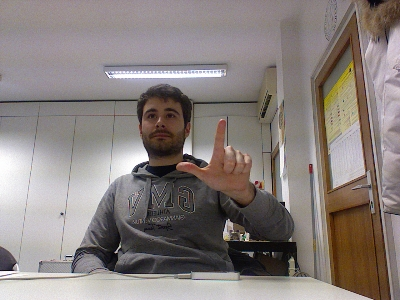枪: (173, 117, 253, 193)
